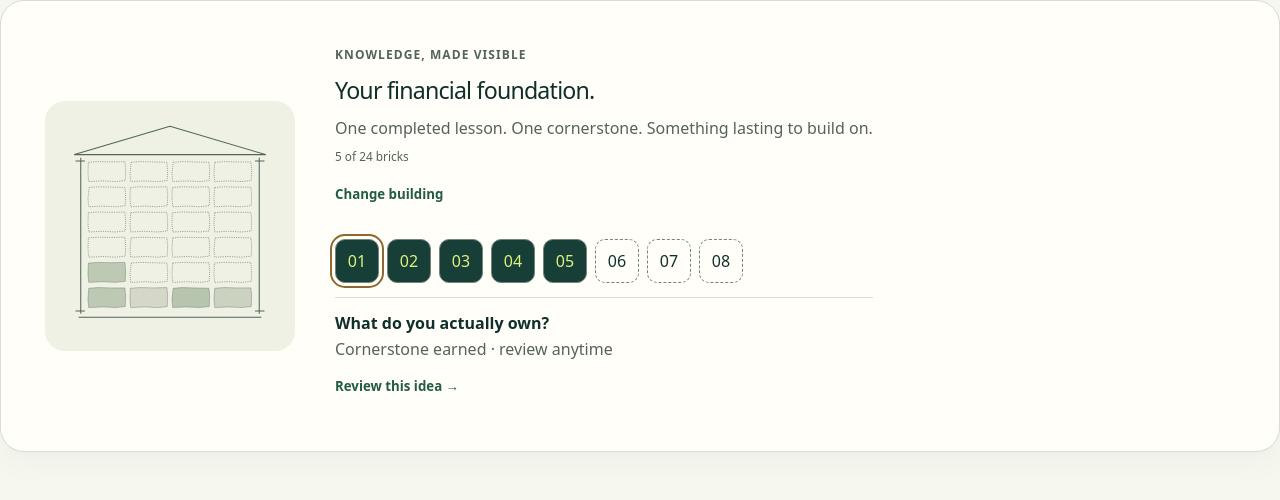
Scenario: shows saved progress quietly in Learn and changing skins never changes that progress
Expected: the text "5 of 24 bricks" is shown, [335,148,409,164]
Click the button "Change building" at {"x": 389, "y": 195}, box [335,173,443,217]
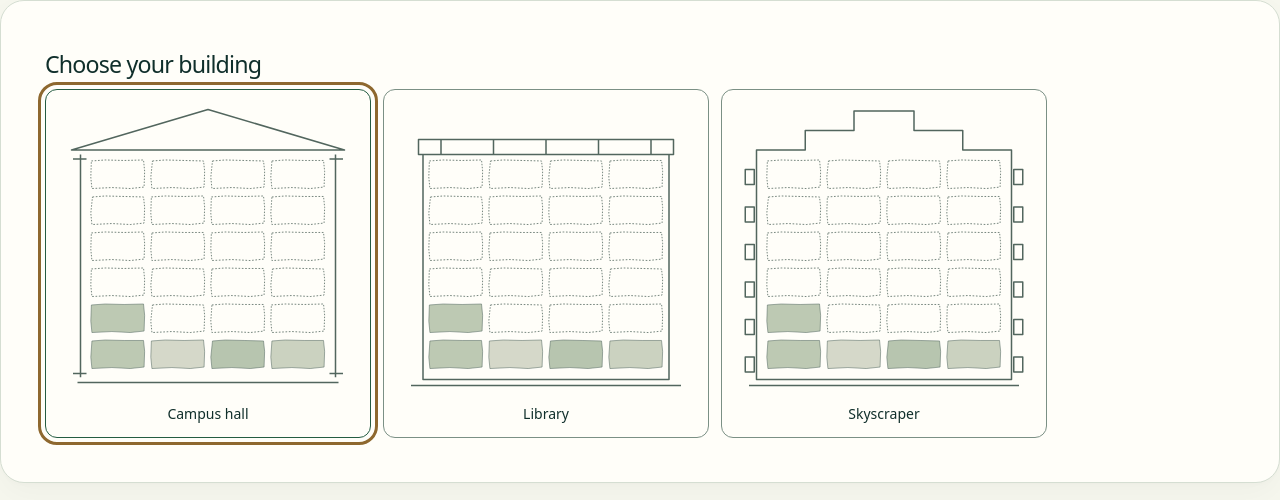
Click the button "Skyscraper" at {"x": 884, "y": 264}, box [721,89,1047,438]
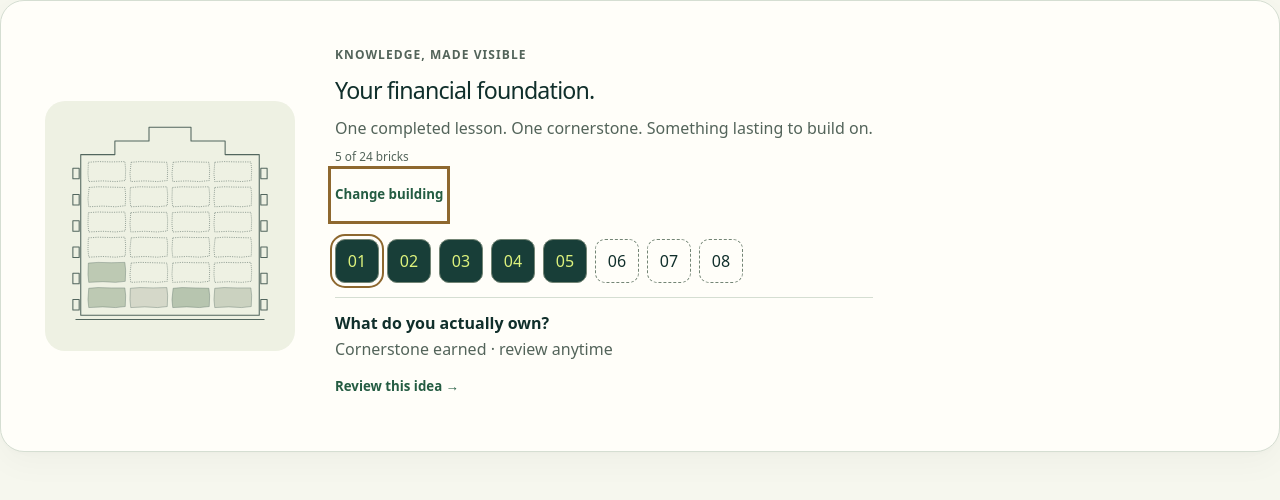
Now the picture has attribute data-skin="skyscraper", box [65,121,275,331]
